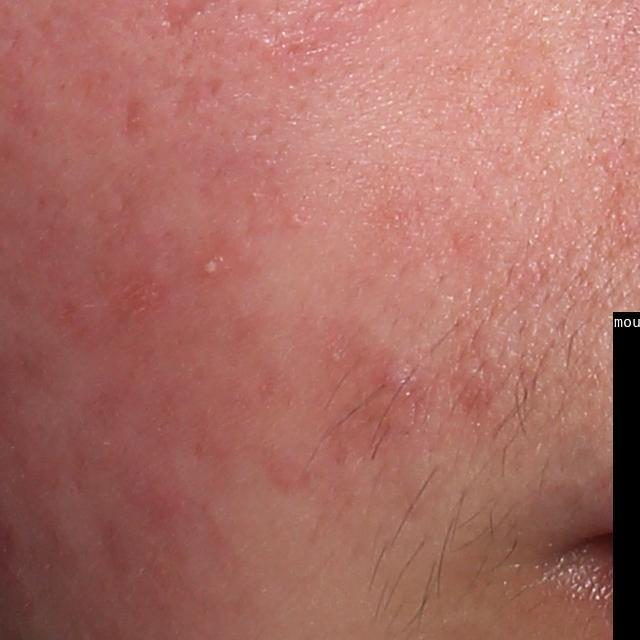atrophic_scar: (116, 96, 150, 147), (159, 1, 207, 36)
pustule: (196, 247, 232, 281)
